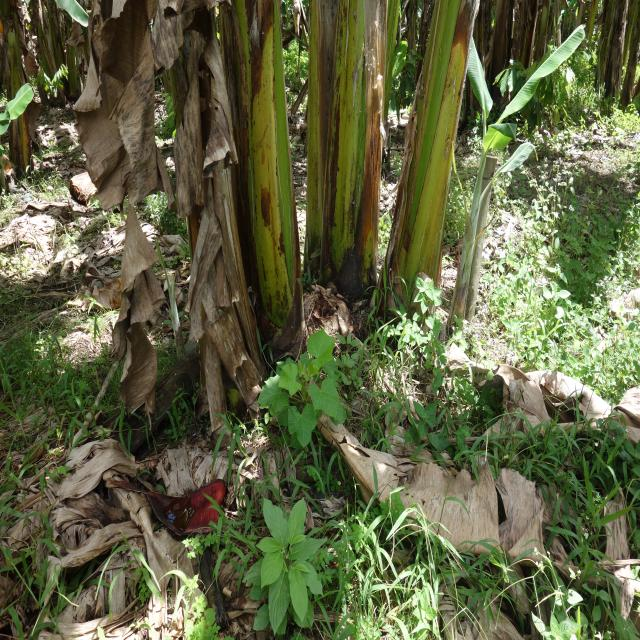Banana-plant: (212, 0, 304, 390), (382, 0, 482, 346), (303, 0, 383, 325)
